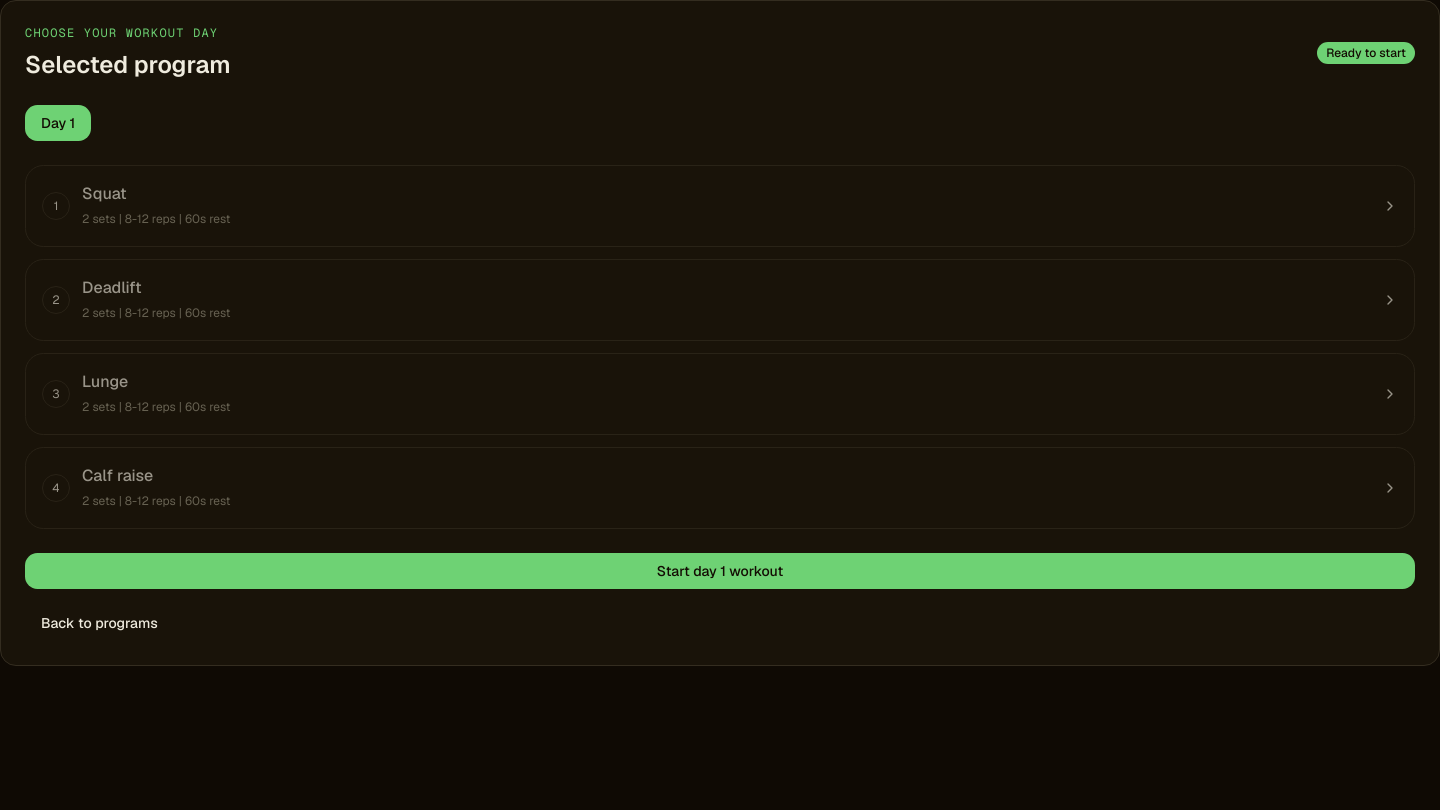
workout interaction › resumes saved progress without inserting another workout
Click the button "Start day 1 workout" at point(720, 571), box [25,553,1415,589]
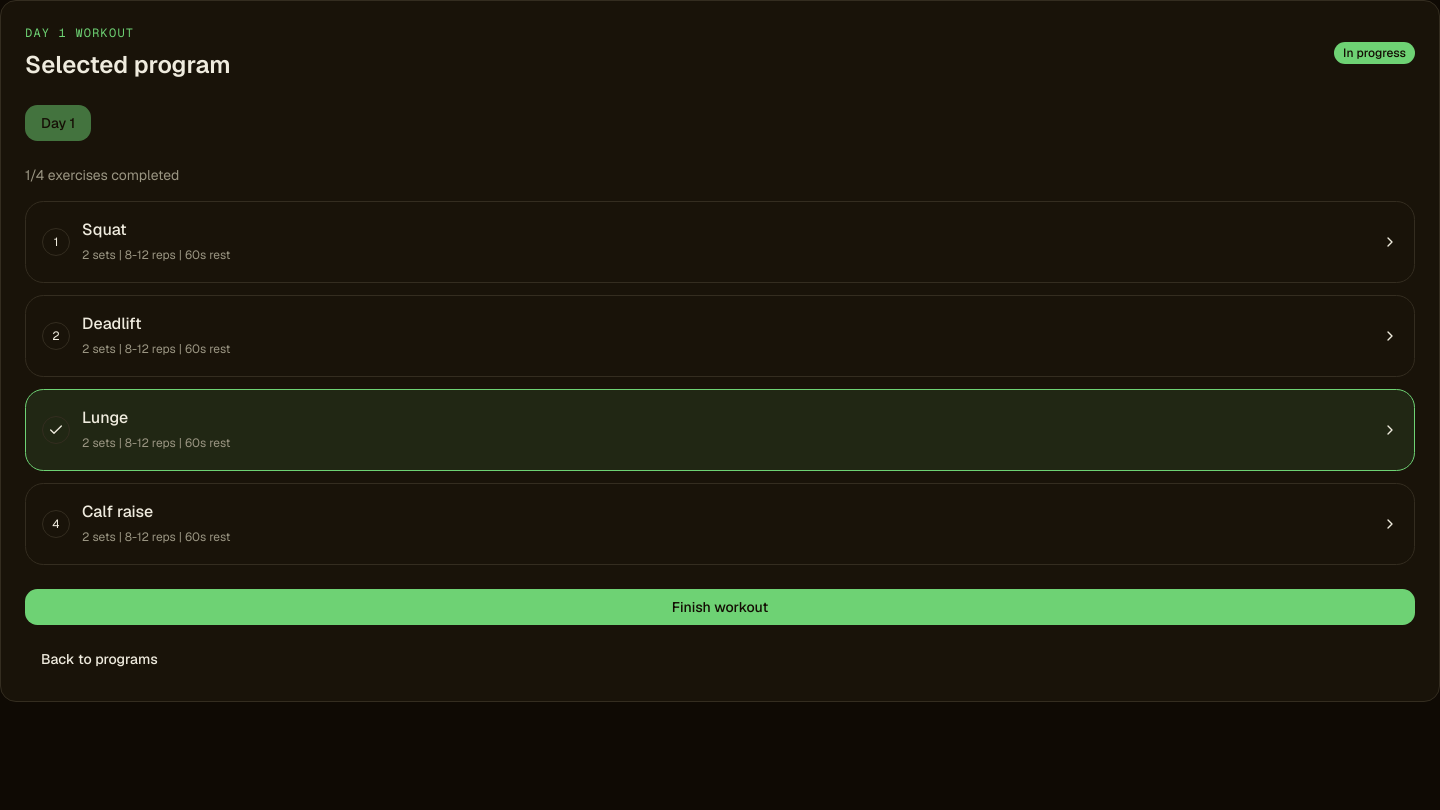
Result: the icon with class "lucide-check" is shown at [48,422,64,438]
Click the button "Lunge 2 sets | 8-12 reps | 60s rest" at point(105, 418), box [25,389,1415,471]
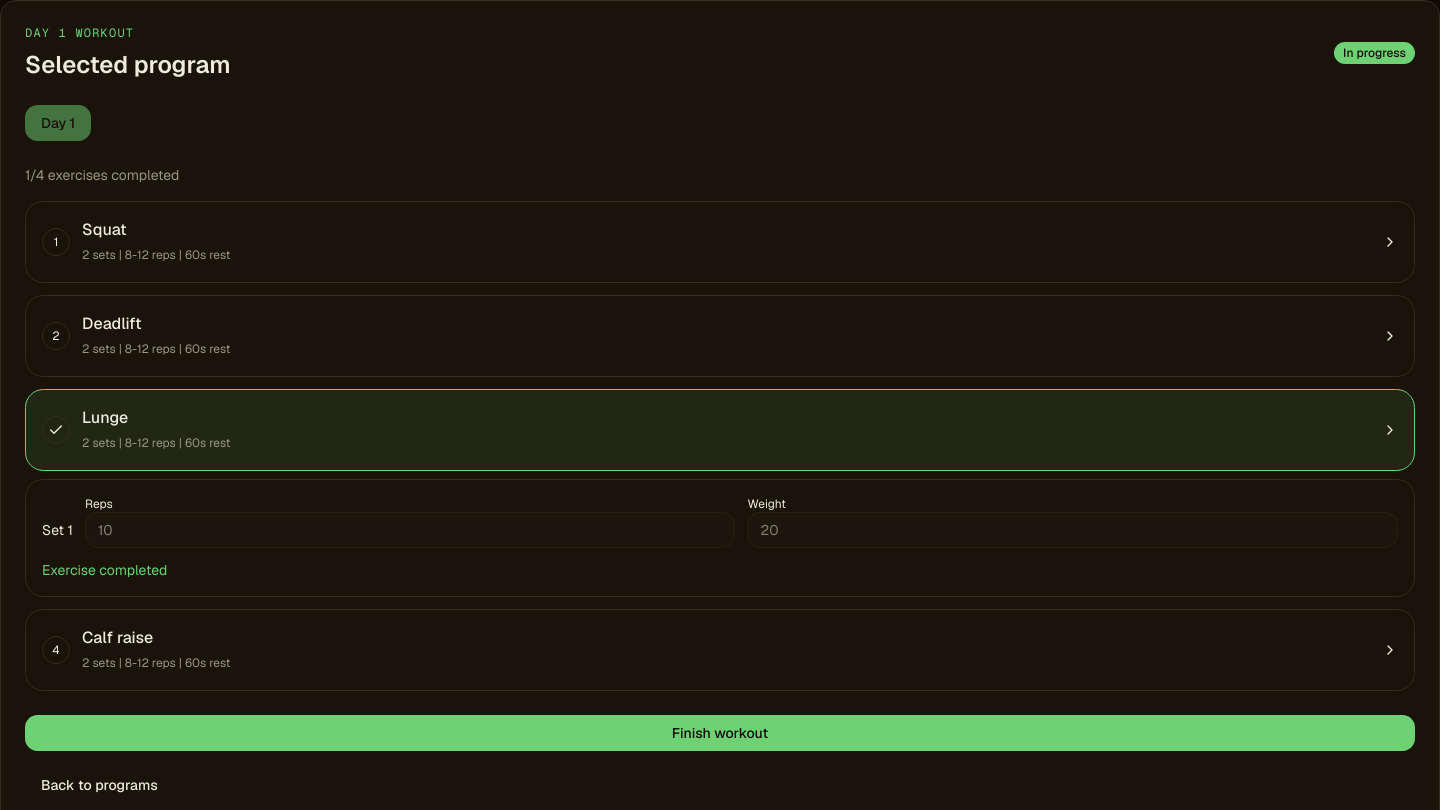
Expected: the button "Finish workout" is enabled, [25,715,1415,751]
Result: the number field named "Lunge set 1 reps" holds "10" at [85,512,736,548]
